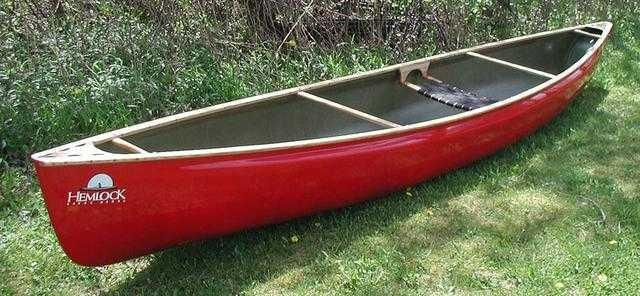kayak: (31, 19, 621, 267)
